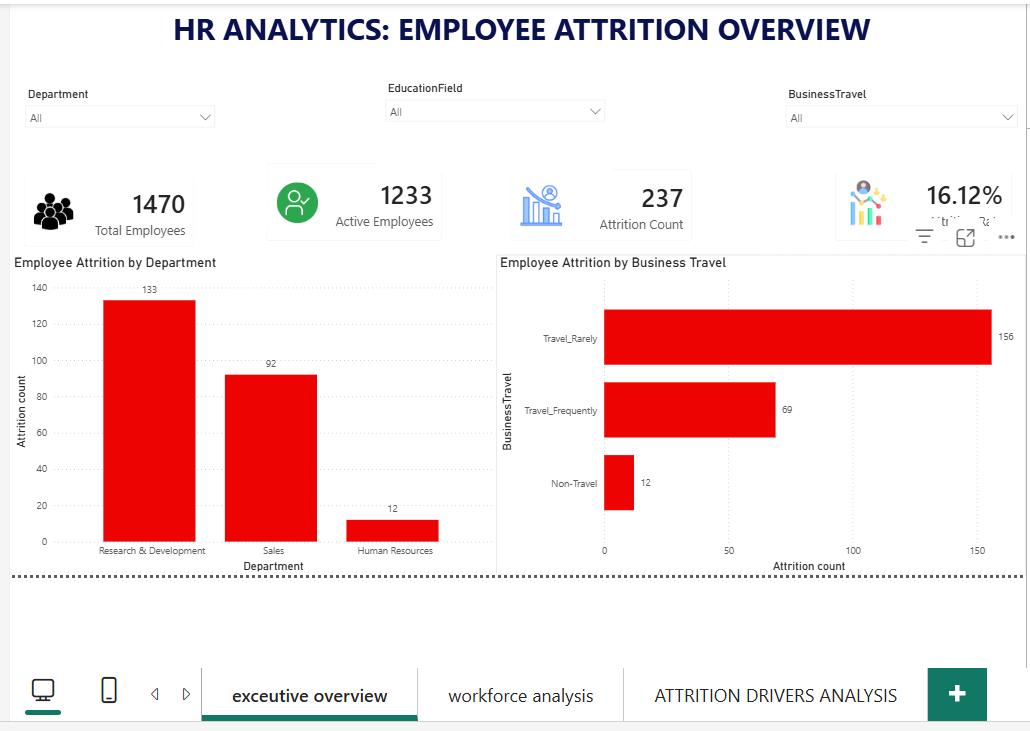

This screenshot's page, from the dashboard's own definition file:
{"tool":"powerbi","page":{"name":"exceutive overview","canvas":[1280,720],"ordinal":0},"visuals":[{"type":"textbox","box":[9.4,0,1269.9,66.1],"z":0},{"type":"cardVisual","title":"Total Employees","fields":{"Data":["hr analytics.total employees"]},"box":[0,198.4,249.5,124.7],"z":1000},{"type":"cardVisual","fields":{"Data":["hr analytics.Active Employees"]},"box":[306.1,183.3,255.1,132.3],"z":2000},{"type":"cardVisual","fields":{"Data":["hr analytics.attrition count"]},"box":[612.3,190.9,264.6,124.7],"z":3000},{"type":"cardVisual","fields":{"Data":["hr analytics.Attrition Rate"]},"box":[1022.4,183.3,257,132.3],"z":4000},{"type":"slicer","fields":{"Values":["hr analytics.Department"]},"box":[9.4,100.2,258.9,119.1],"z":5000},{"type":"slicer","fields":{"Values":["hr analytics.EducationField"]},"box":[463,92.6,296.7,119.1],"z":6000},{"type":"slicer","fields":{"Values":["hr analytics.BusinessTravel"]},"box":[967.6,100.2,311.8,111.5],"z":7000},{"type":"clusteredColumnChart","title":"Employee Attrition by Department","fields":{"Category":["hr analytics.Department"],"Y":["hr analytics.attrition count"]},"box":[0,315.6,612.3,404.4],"z":8000},{"type":"clusteredBarChart","title":"Employee Attrition by Business Travel","fields":{"Category":["hr analytics.BusinessTravel"],"Y":["hr analytics.attrition count"]},"box":[612.3,315.6,667.1,404.4],"z":9000}]}

Visuals, with their boxes on the page's 1280x720 design canvas (x1, y1, x2, y2). These are canvas units, not pixel positions in the 1030x731 screenshot, which may show the page scaled, cropped or inside an application window:
textbox: rect(9, 0, 1279, 66)
"Total Employees" cardVisual: rect(0, 198, 250, 323)
cardVisual - hr analytics.Active Employees: rect(306, 183, 561, 316)
cardVisual - hr analytics.attrition count: rect(612, 191, 877, 316)
cardVisual - hr analytics.Attrition Rate: rect(1022, 183, 1279, 316)
slicer - hr analytics.Department: rect(9, 100, 268, 219)
slicer - hr analytics.EducationField: rect(463, 93, 760, 212)
slicer - hr analytics.BusinessTravel: rect(968, 100, 1279, 212)
"Employee Attrition by Department" clusteredColumnChart: rect(0, 316, 612, 720)
"Employee Attrition by Business Travel" clusteredBarChart: rect(612, 316, 1279, 720)
